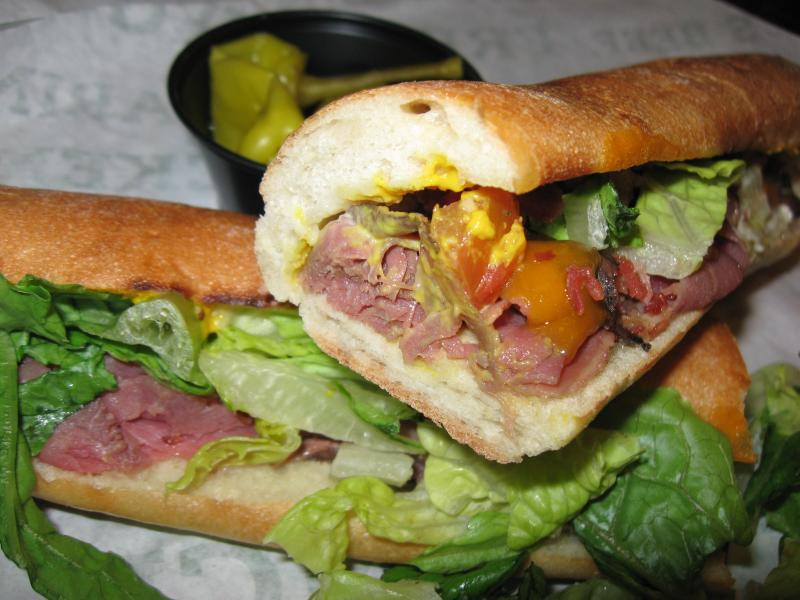chopped lettuce: (240, 364, 753, 586), (6, 281, 129, 600)
slice of bread: (254, 44, 800, 190)
